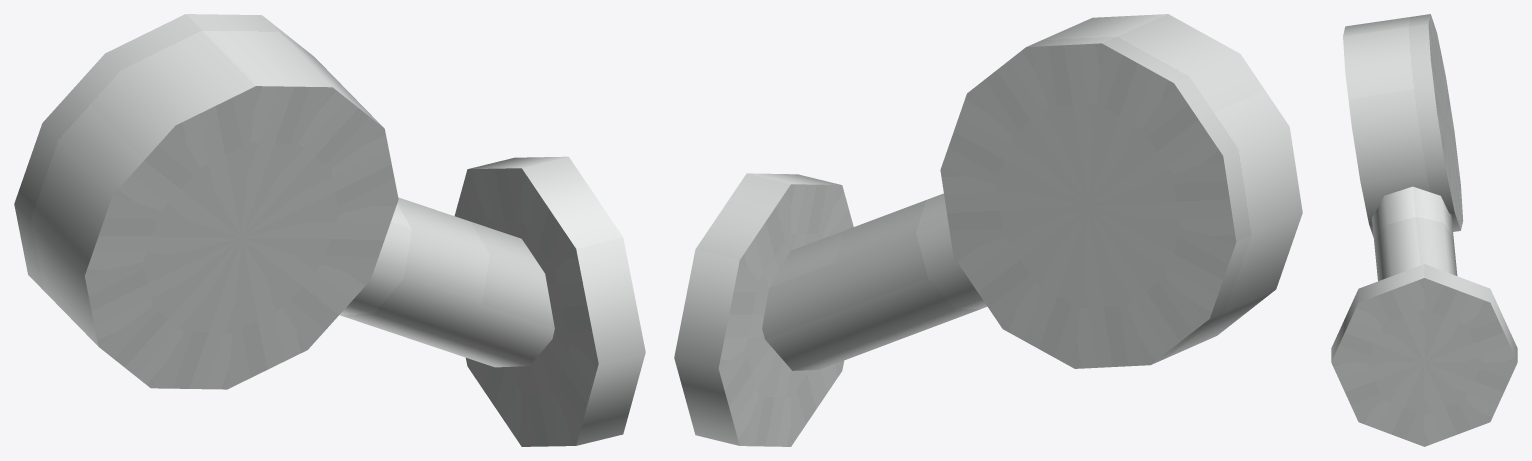
Rendered from trusssignalarm_stub_79.obj.
3 renders of one model, left to right at view 1: azimuth 30°, elevation 25°; view 2: azimuth 150°, elevation 25°; view 3: azimuth 270°, elevation 25°, orthographic. The views are drawn at different scales.
Visible parts, largest first — view 1: trusssignalarm_stub_79; view 2: trusssignalarm_stub_79; view 3: trusssignalarm_stub_79.
Boxes of the visible parts, bbox=[...] form: trusssignalarm_stub_79: bbox=[14, 14, 645, 446]; trusssignalarm_stub_79: bbox=[674, 14, 1302, 446]; trusssignalarm_stub_79: bbox=[1331, 14, 1517, 446].
Bounding box in the file's own units: 0.7056 × 0.6426 × 0.35.
